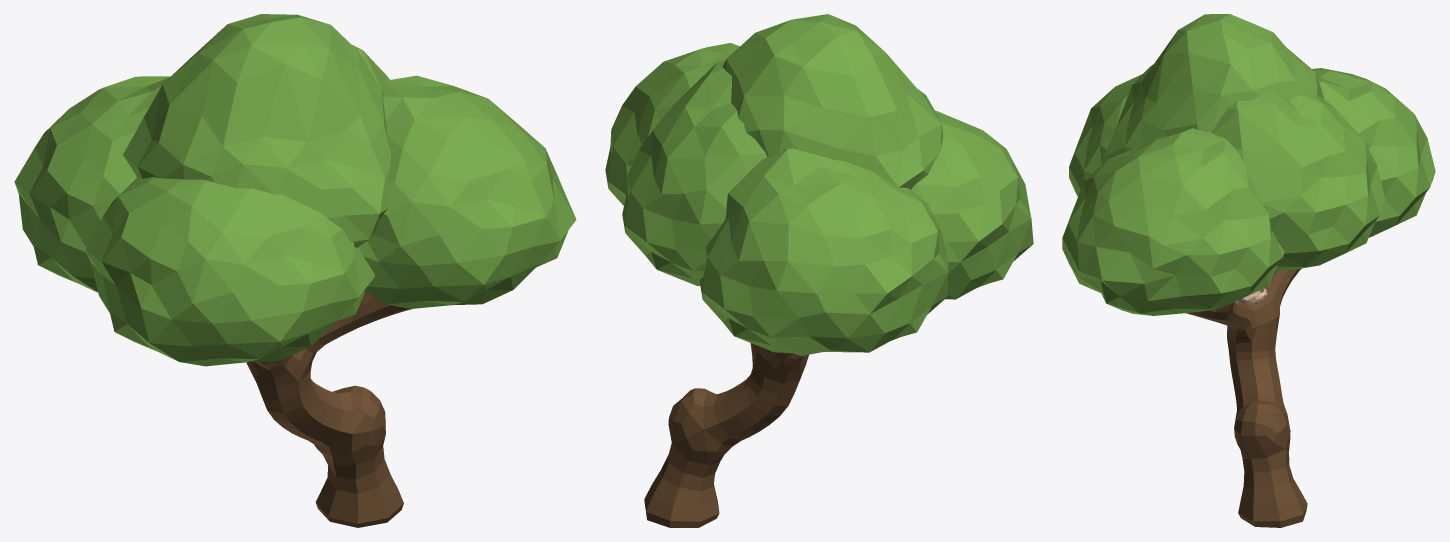
File: tree4.fbx
3 renders of one model, left to right at view 1: azimuth 30°, elevation 25°; view 2: azimuth 150°, elevation 25°; view 3: azimuth 270°, elevation 25°, orthographic. The views are drawn at different scales.
Visible parts, largest first — view 1: Icosphere, Plane; view 2: Icosphere, Plane; view 3: Icosphere, Plane.
Part boxes in pixels (x1=…): Icosphere: x1=14, y1=14, x2=576, y2=366; Plane: x1=246, y1=291, x2=413, y2=527; Icosphere: x1=605, y1=14, x2=1033, y2=355; Plane: x1=644, y1=343, x2=808, y2=527; Icosphere: x1=1062, y1=14, x2=1435, y2=315; Plane: x1=1186, y1=268, x2=1307, y2=527.
Bounding box in the file's own units: 2329 × 2801 × 2106.
